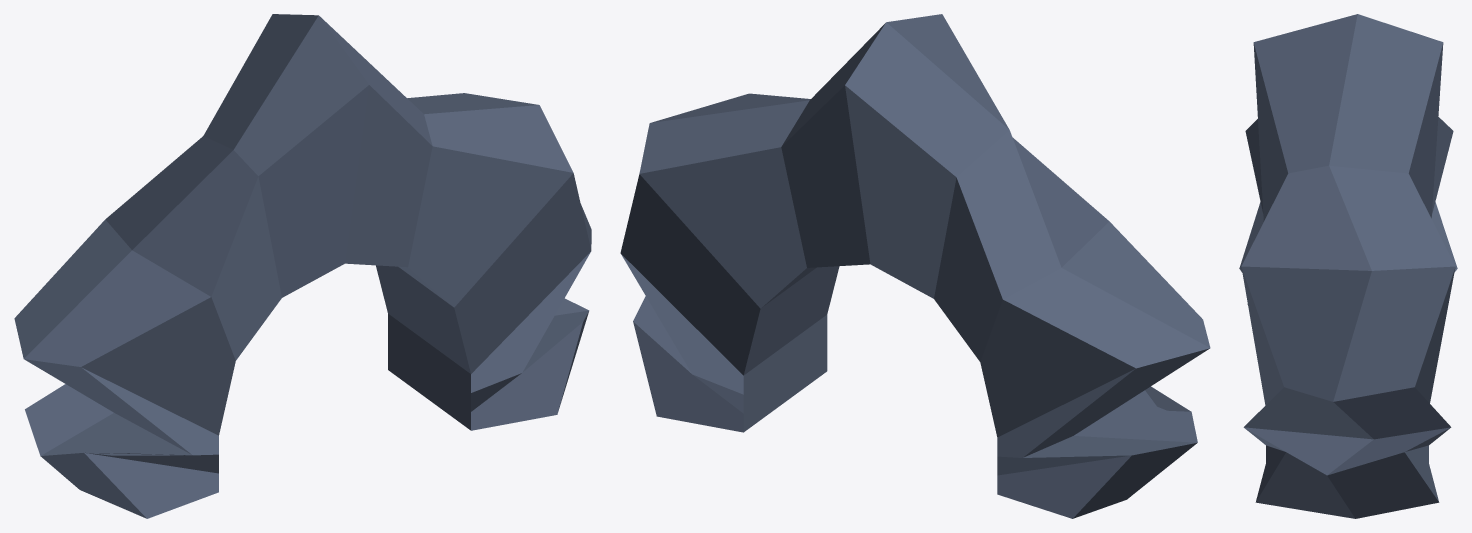
The model's file is UnderwaterCave.fbx.
The picture shows the model from 3 angles, left to right: view 1: azimuth 30°, elevation 25°; view 2: azimuth 150°, elevation 25°; view 3: azimuth 270°, elevation 25°; orthographic projection. The views are drawn at different scales.
Parts seen in each view (by area): view 1: UnderwaterCave_RockMat; view 2: UnderwaterCave_RockMat; view 3: UnderwaterCave_RockMat.
Part boxes in pixels (x1,y1,x2,y2): UnderwaterCave_RockMat: [14, 14, 591, 518]; UnderwaterCave_RockMat: [620, 14, 1210, 518]; UnderwaterCave_RockMat: [1239, 14, 1457, 518].
Size of the model in its own units: 3159 by 2215 by 1070.
